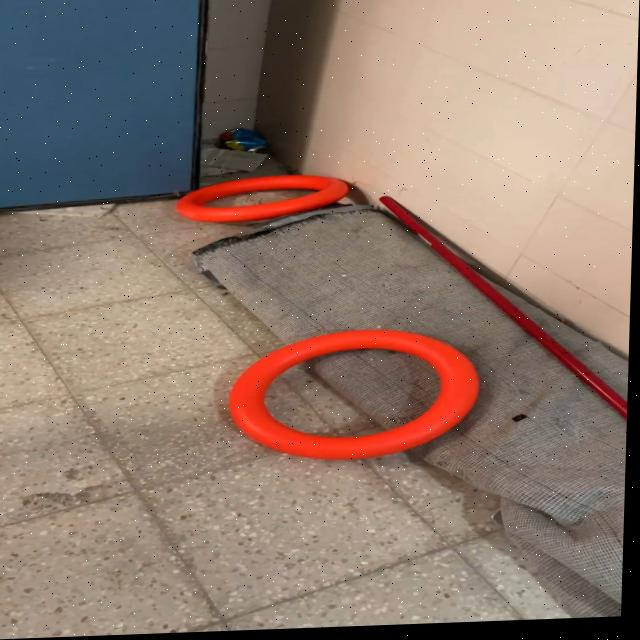note: (226, 328, 487, 469), (174, 174, 353, 229)
